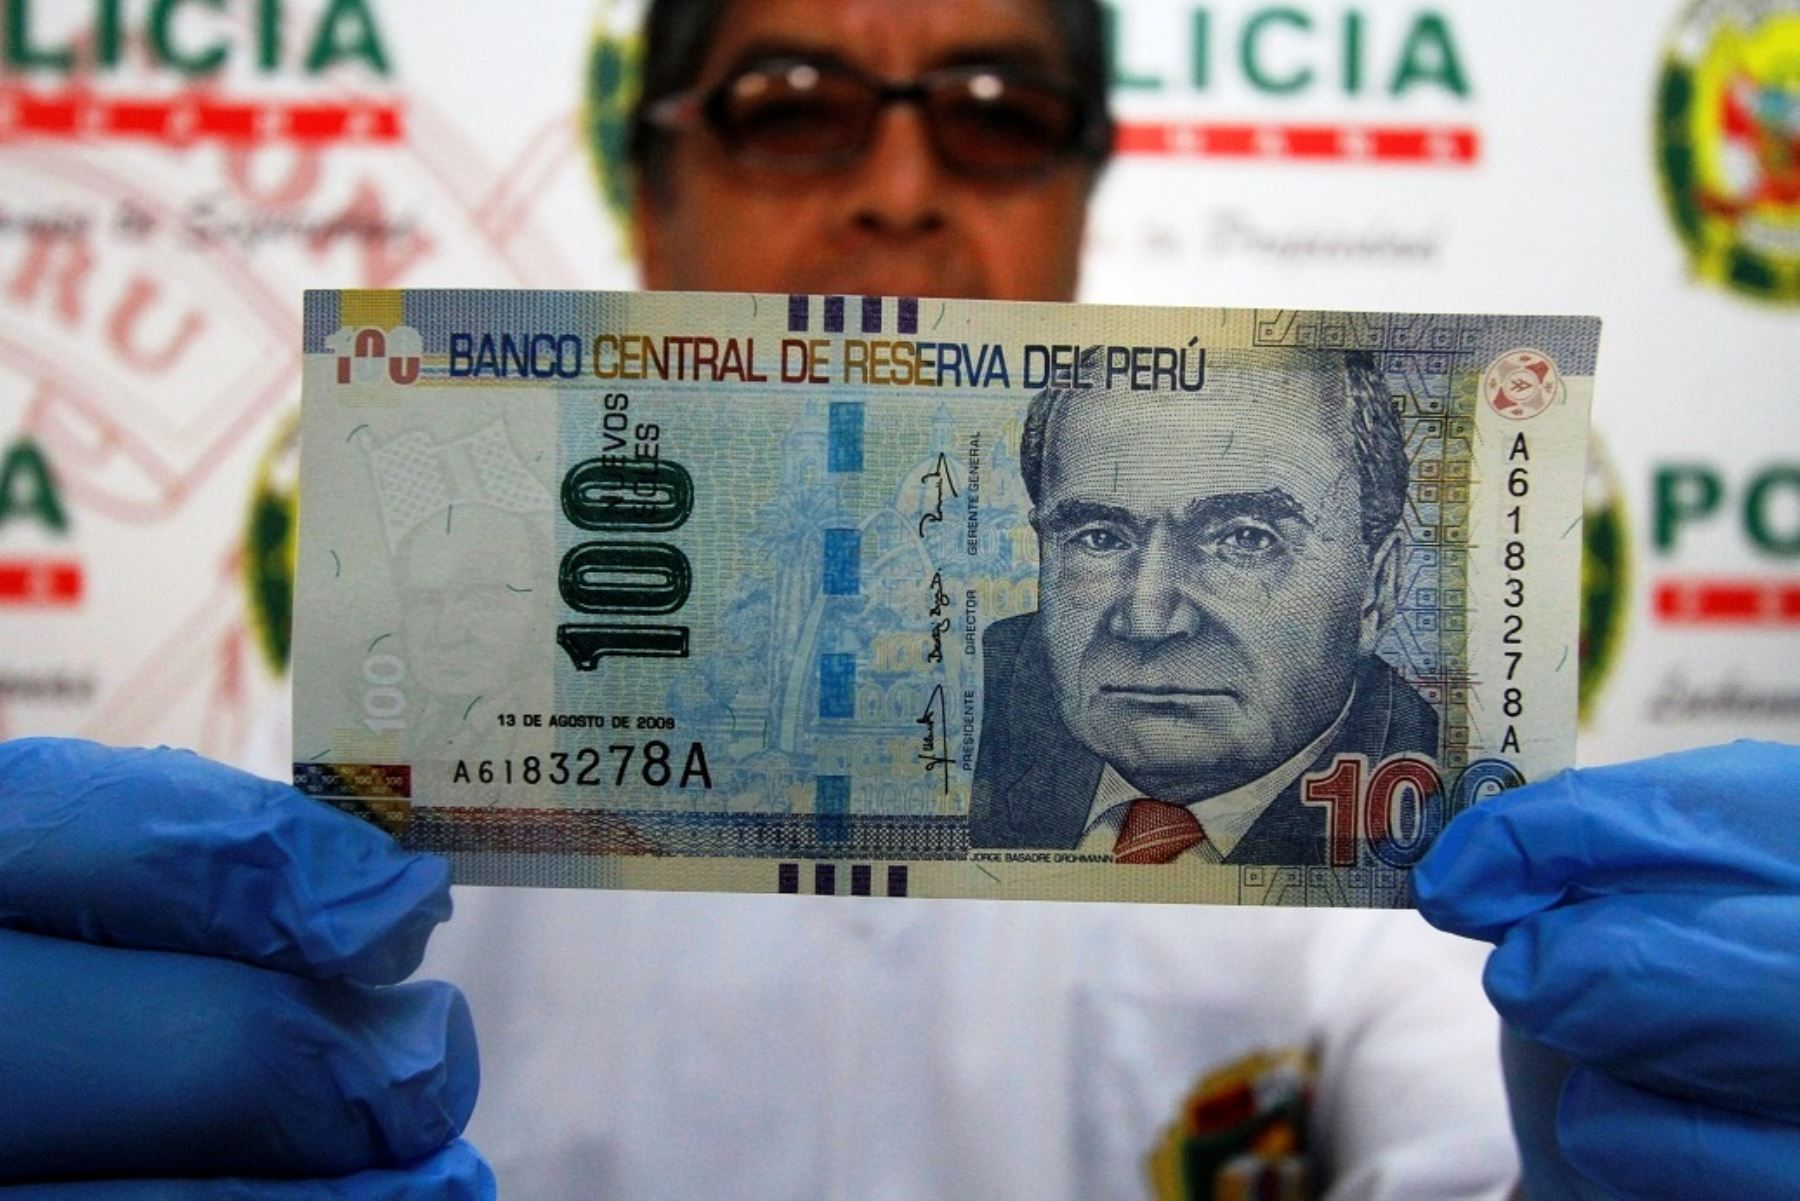billete: (288, 290, 1603, 909)
